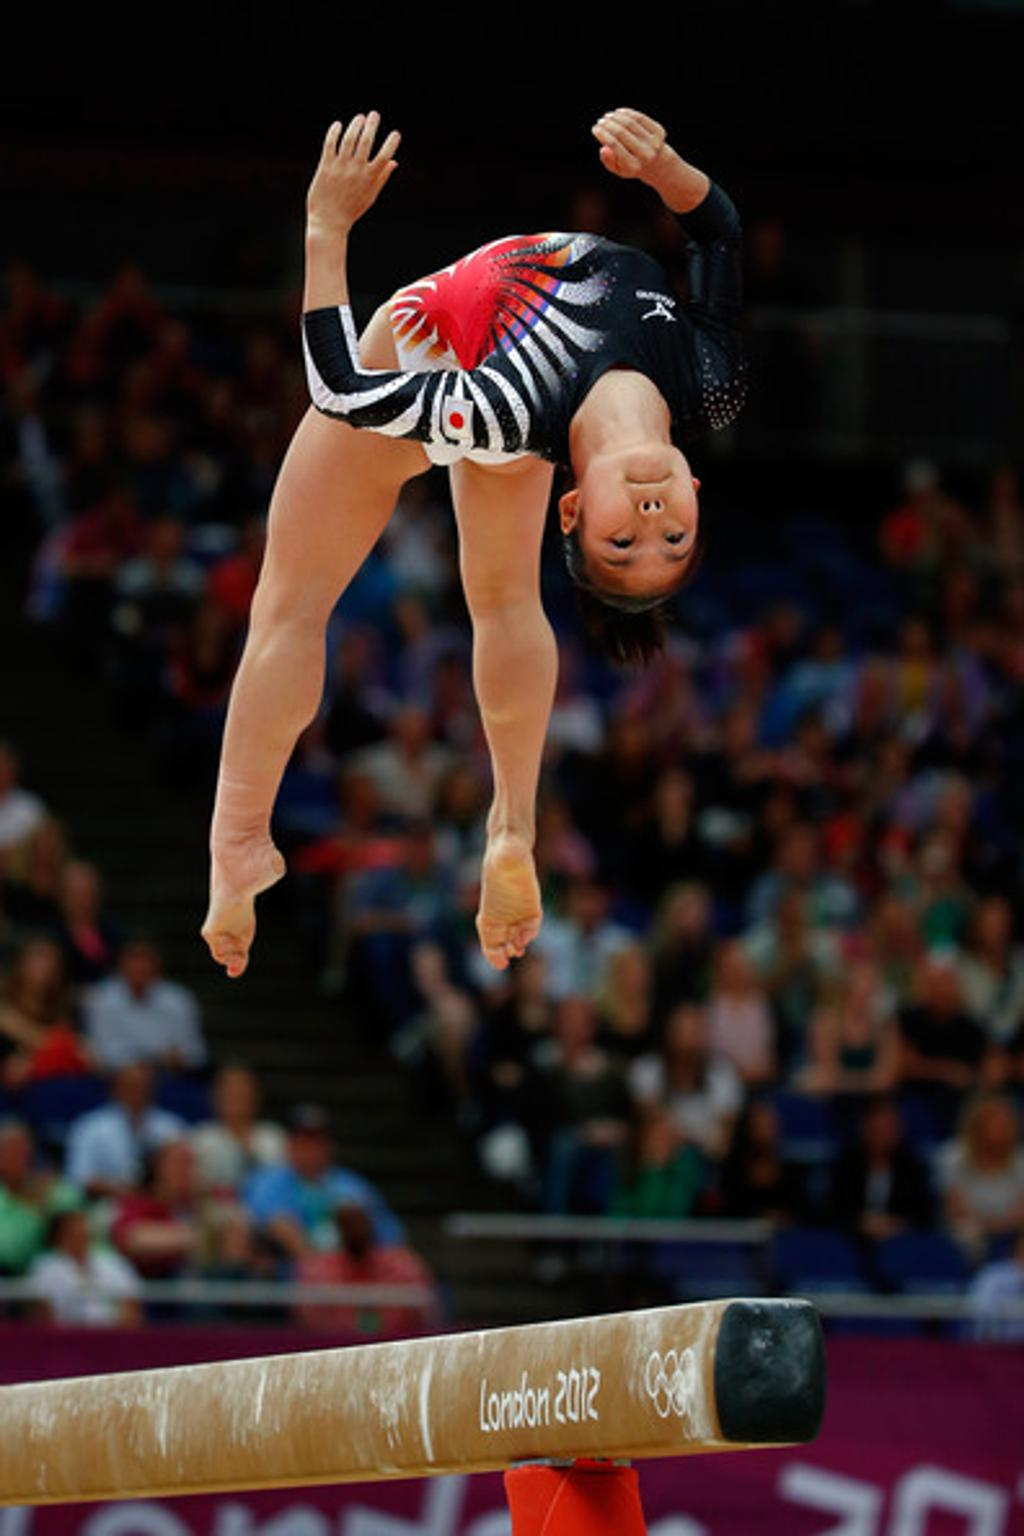face: (580, 441, 703, 624)
